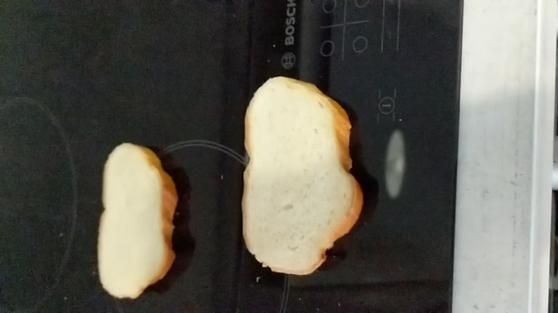white_bread: (242, 65, 369, 283), (93, 140, 184, 306)
